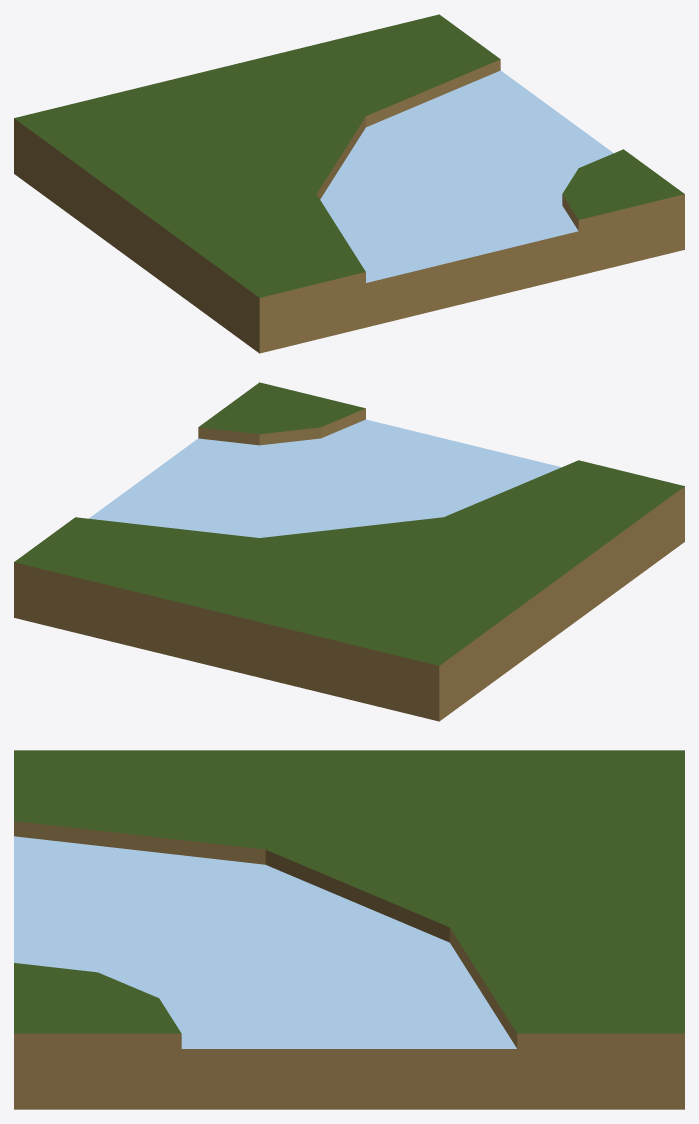
The model's file is Terrain_Tile_Grass_Dirt_River_Bend_01.fbx.
3 views of the same model, one above another, from view 1: azimuth 30°, elevation 25°; view 2: azimuth 150°, elevation 25°; view 3: azimuth 270°, elevation 25° (orthographic). The views are drawn at different scales.
Visible parts, largest first — view 1: Model; view 2: Model; view 3: Model.
Part boxes in pixels (<box>): Model: <box>14,14,684,353</box>; Model: <box>14,382,684,721</box>; Model: <box>14,750,684,1109</box>.
Size of the model in its own units: 2000 by 250 by 2000.
